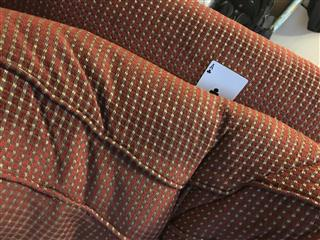AceOfClubs: (196, 60, 248, 100)
